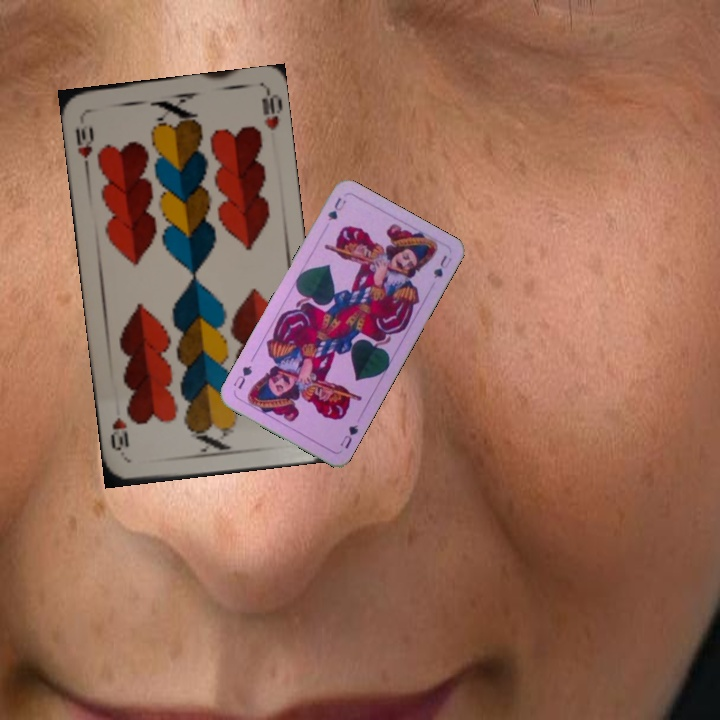GU: (323, 193, 349, 223), (336, 420, 361, 451)
H10: (71, 123, 97, 172)
